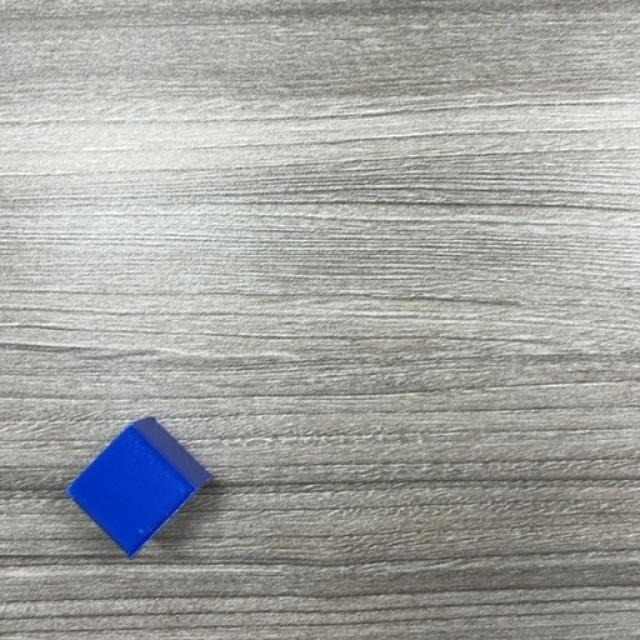Azul: (65, 418, 214, 560)
